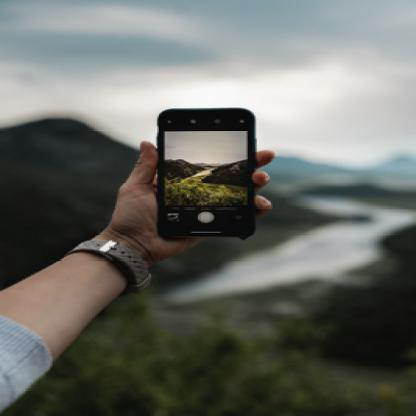cell-phone: (150, 104, 263, 244)
